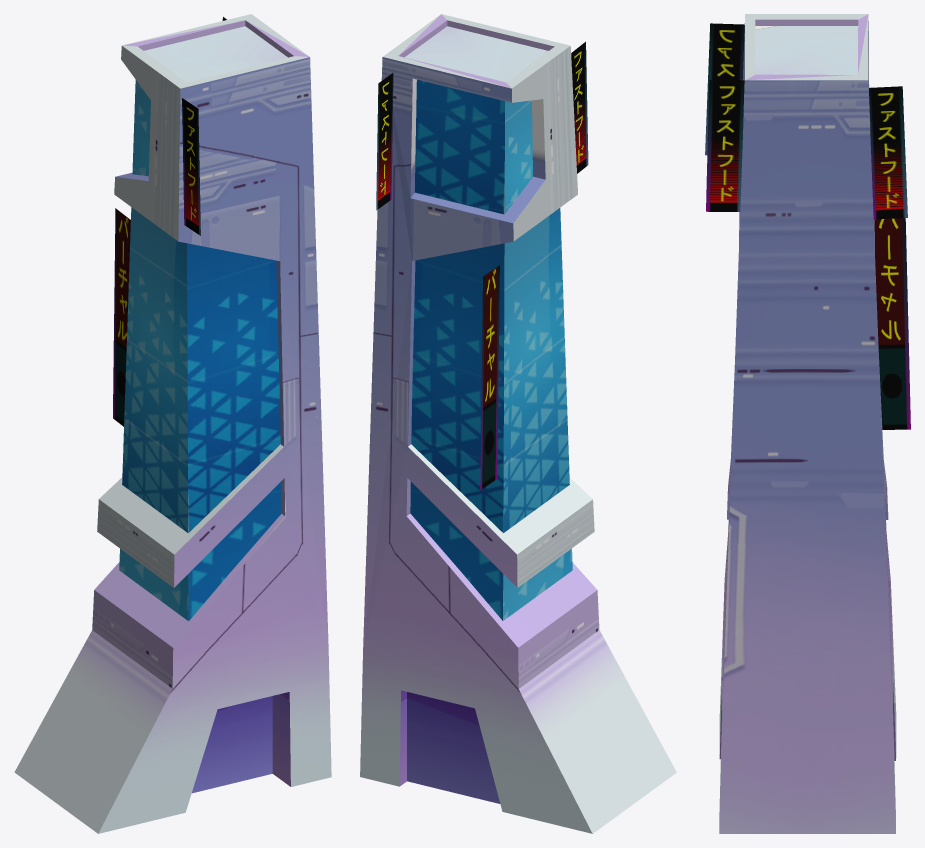
The model's file is FUT0210013.fbx.
3 renders of one model, left to right at view 1: azimuth 30°, elevation 25°; view 2: azimuth 150°, elevation 25°; view 3: azimuth 270°, elevation 25°, orthographic. The views are drawn at different scales.
Parts seen in each view (by area): view 1: smFUT0210013; view 2: smFUT0210013; view 3: smFUT0210013.
Boxes of the visible parts, <box> form: smFUT0210013: <box>14,14,331,833</box>; smFUT0210013: <box>360,14,676,833</box>; smFUT0210013: <box>705,14,910,833</box>.
Size of the model in its own units: 1170 by 3418 by 852.
Materials: 2 (2 with a texture image).
